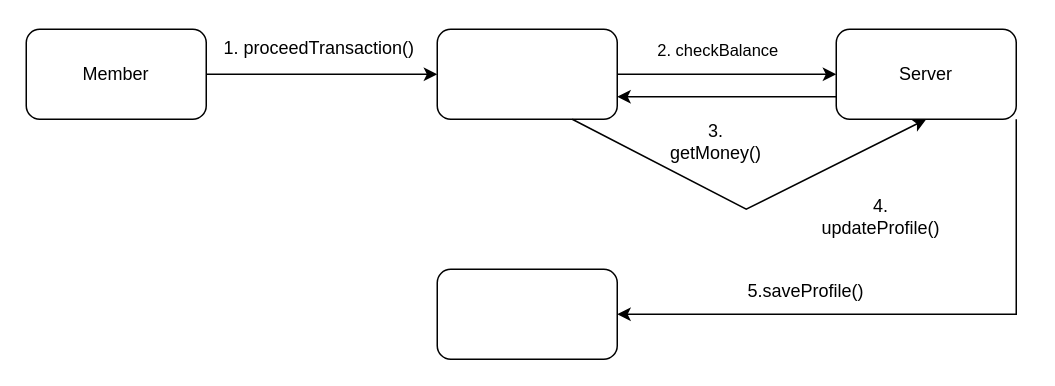
The diagram is 1055 pixels wide and 386 high, and some of its shapes have lost their labels. Here are the shapes that lost their labels. From the top down, the centre of each, then its label:
At point (526, 73): "Payment".
At point (526, 313): "Database".
